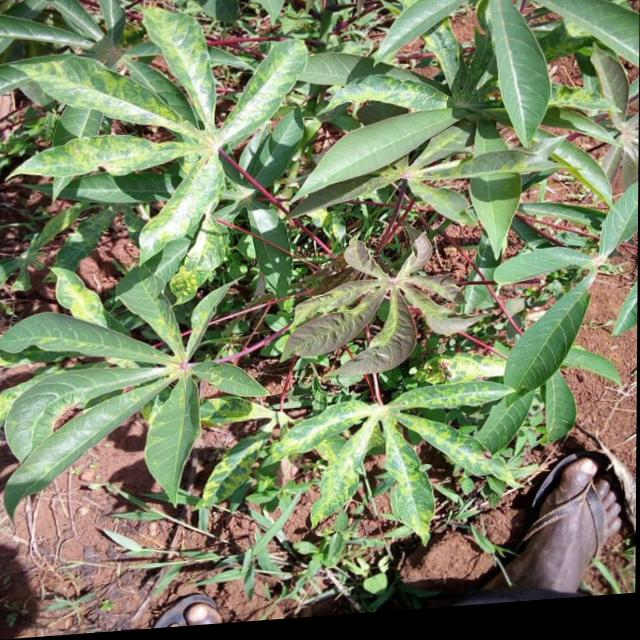Mosaico: (0, 0, 249, 262), (31, 243, 264, 461), (247, 356, 599, 485), (308, 249, 493, 376)
